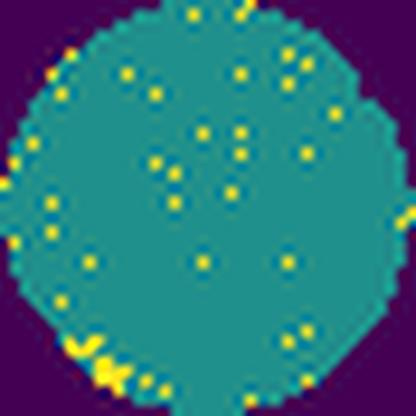Edge-Loc: (91, 350, 138, 397), (60, 328, 104, 365)
